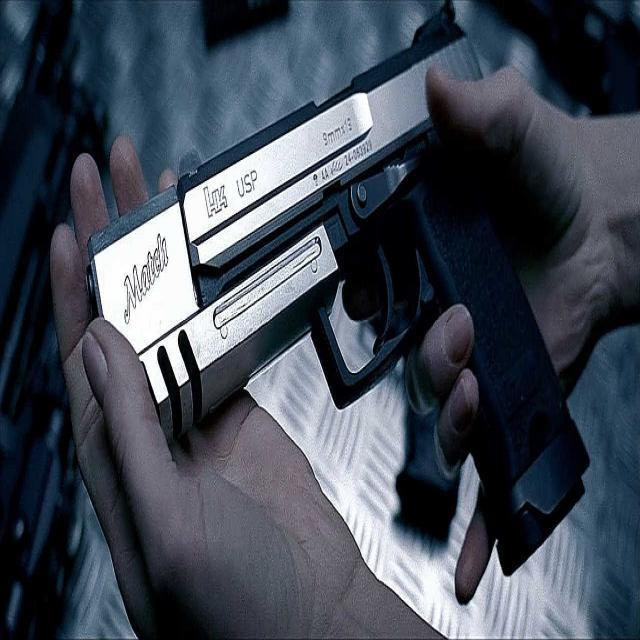gun-knife-thesis - v11 Yolov5 augmented: (72, 17, 591, 583)
